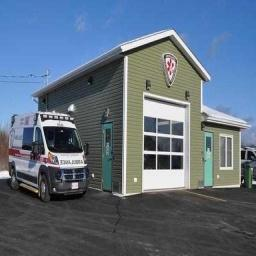ambulance: (9, 112, 88, 201)
